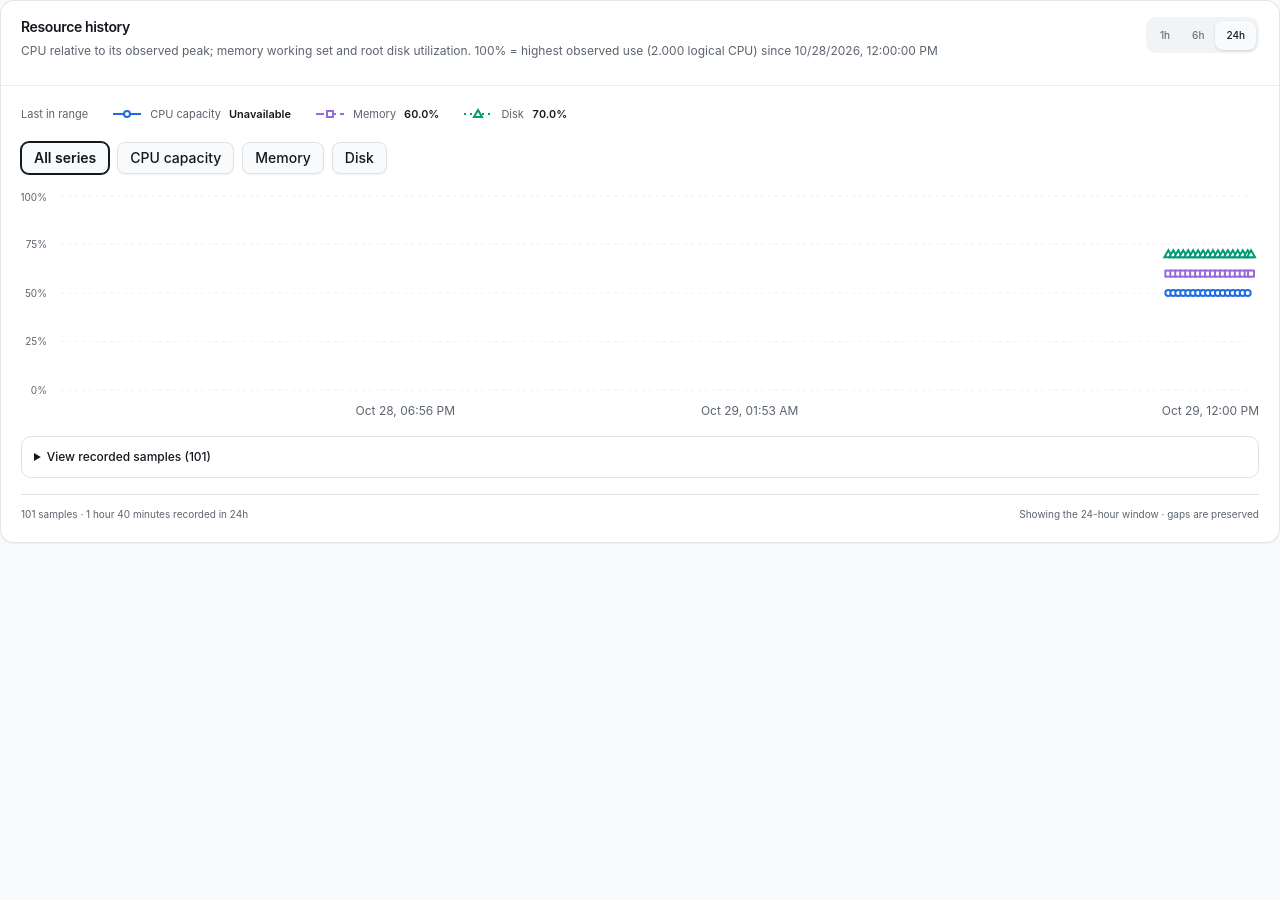
Scenario: recorded resource data › keeps unavailable values, CPU reference, real sample times and pagination in the alternative table
Click the heading "View recorded samples (101)" at (129, 456), box [47, 449, 211, 464]
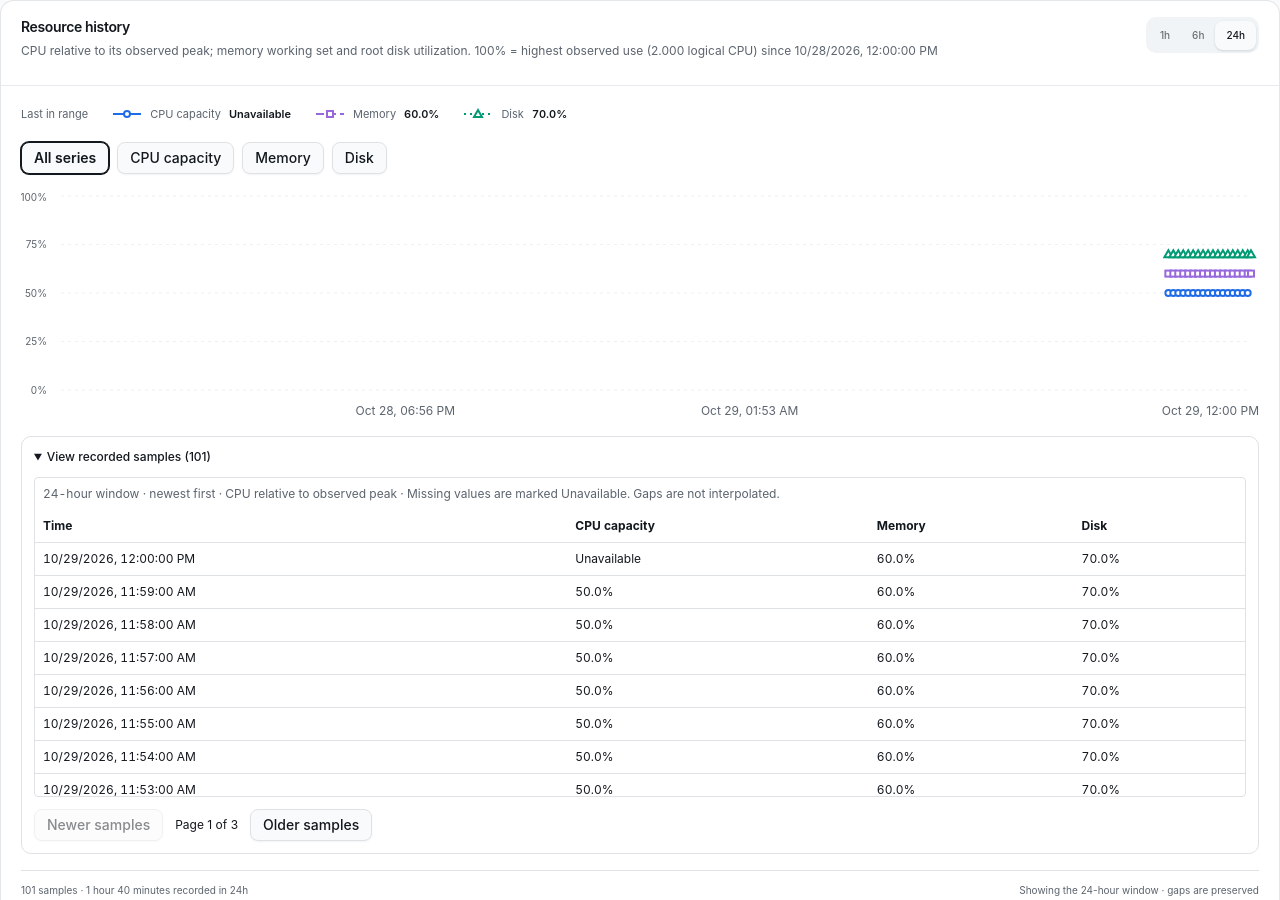
Expected: the cells read "Unavailable", "60.0%", "70.0%", in this order, [567, 542, 869, 576]; [869, 542, 1074, 576]; [1074, 542, 1245, 576]
Expected: the row "10/29/2026, 11:59:00 AM 50.0% 60.0% 70.0%" is shown, [35, 576, 1245, 608]
Click the button "Older samples" at (311, 825), box [250, 809, 372, 841]
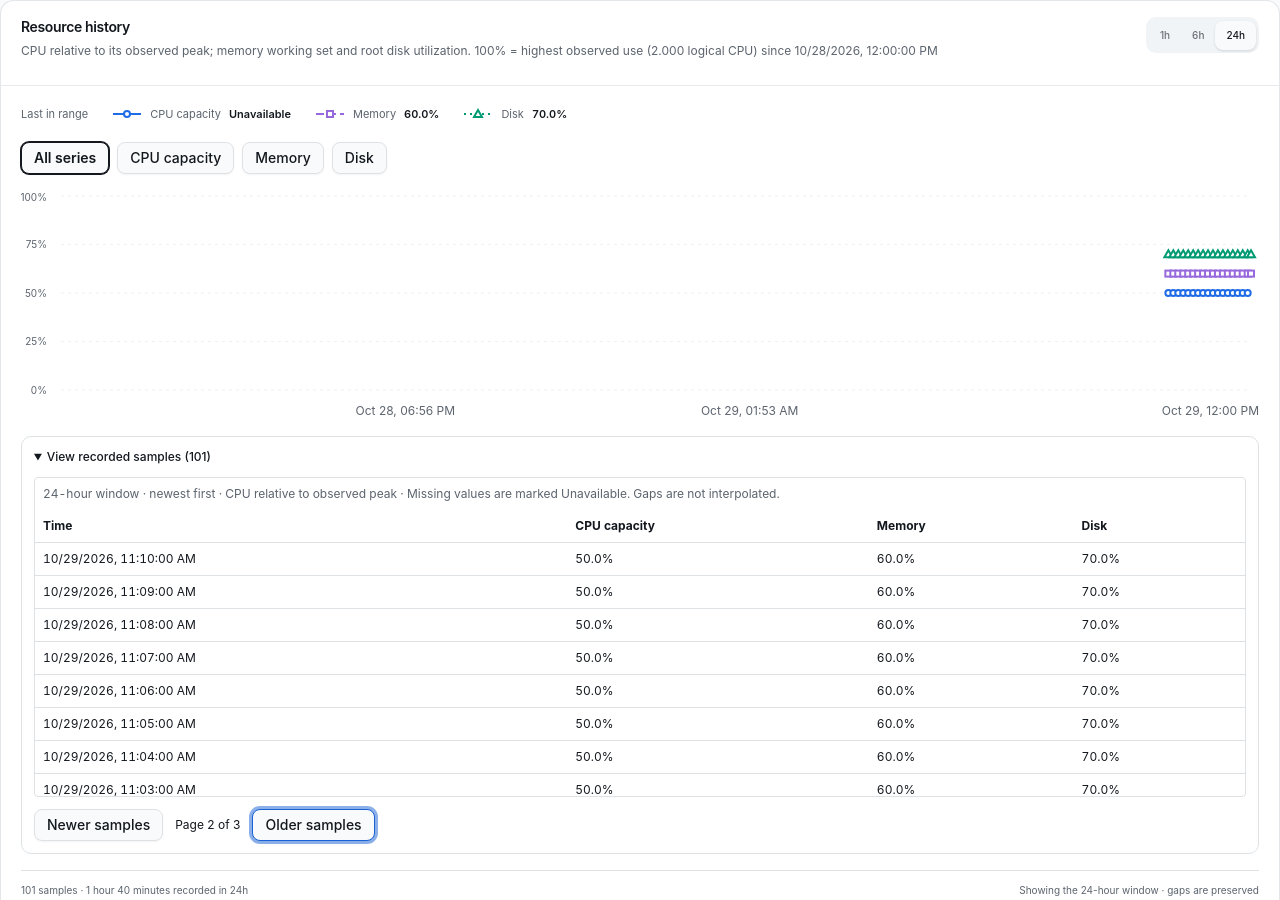
Expected: the text "Page 2 of 3" is shown, [175, 817, 240, 833]
Click the tab "1h" at (1165, 35), box [1149, 20, 1181, 50]
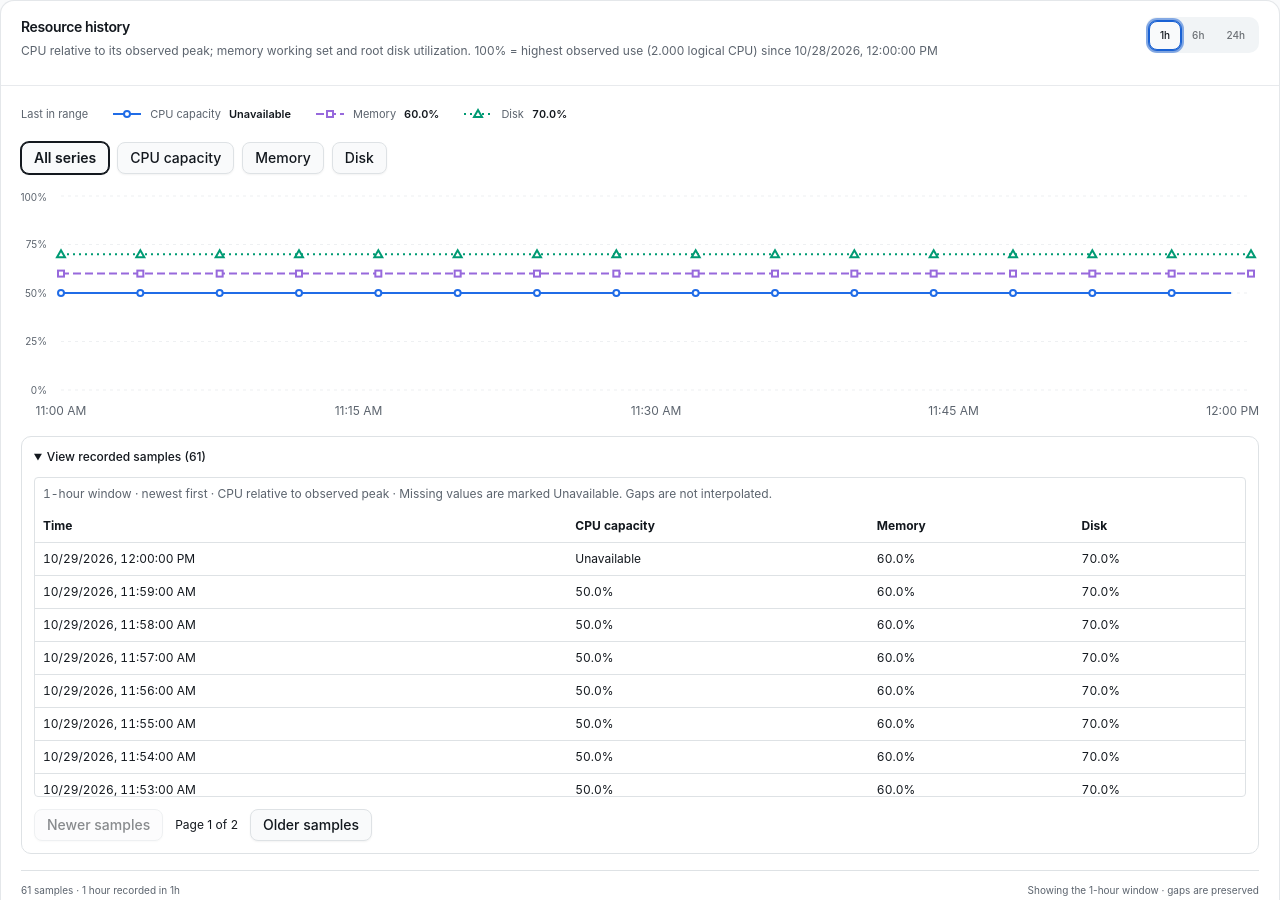
Expected: the heading "View recorded samples (61)" is shown, [47, 449, 206, 464]
Expected: the text "Page 1 of 2" is shown, [175, 817, 238, 833]
